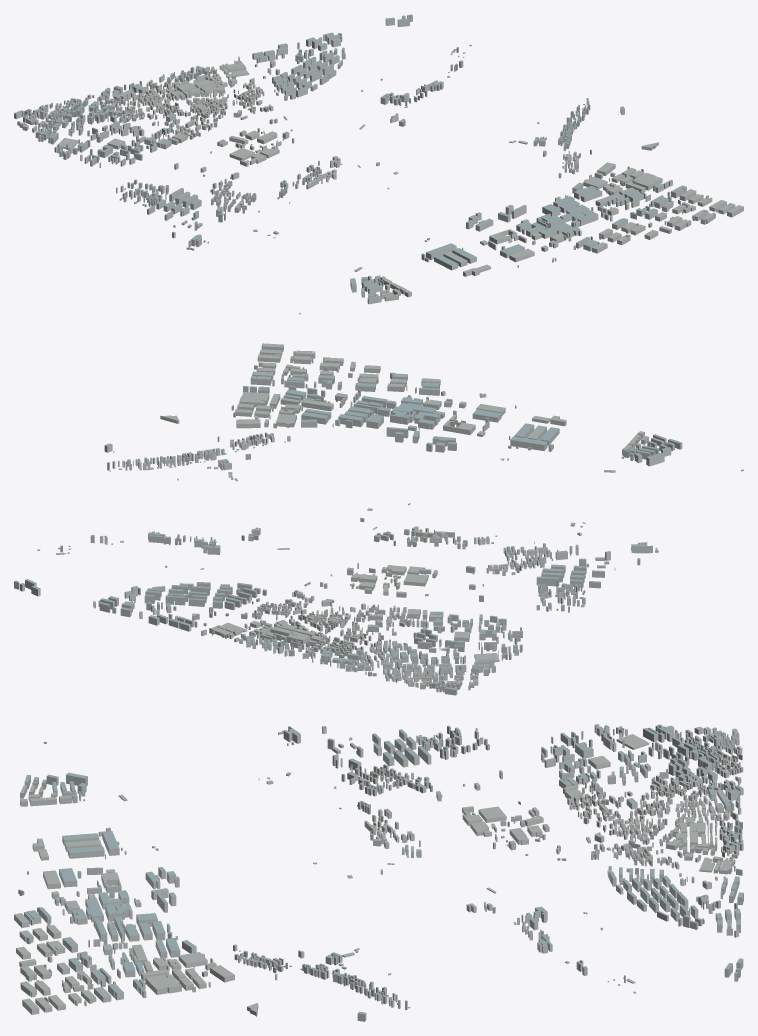
The model's file is far.glb.
The picture shows the model from 3 angles, top to bottom: view 1: azimuth 30°, elevation 25°; view 2: azimuth 150°, elevation 25°; view 3: azimuth 270°, elevation 25°; orthographic projection. The views are drawn at different scales.
Bounding box in the file's own units: 1996 × 32.93 × 2119.
